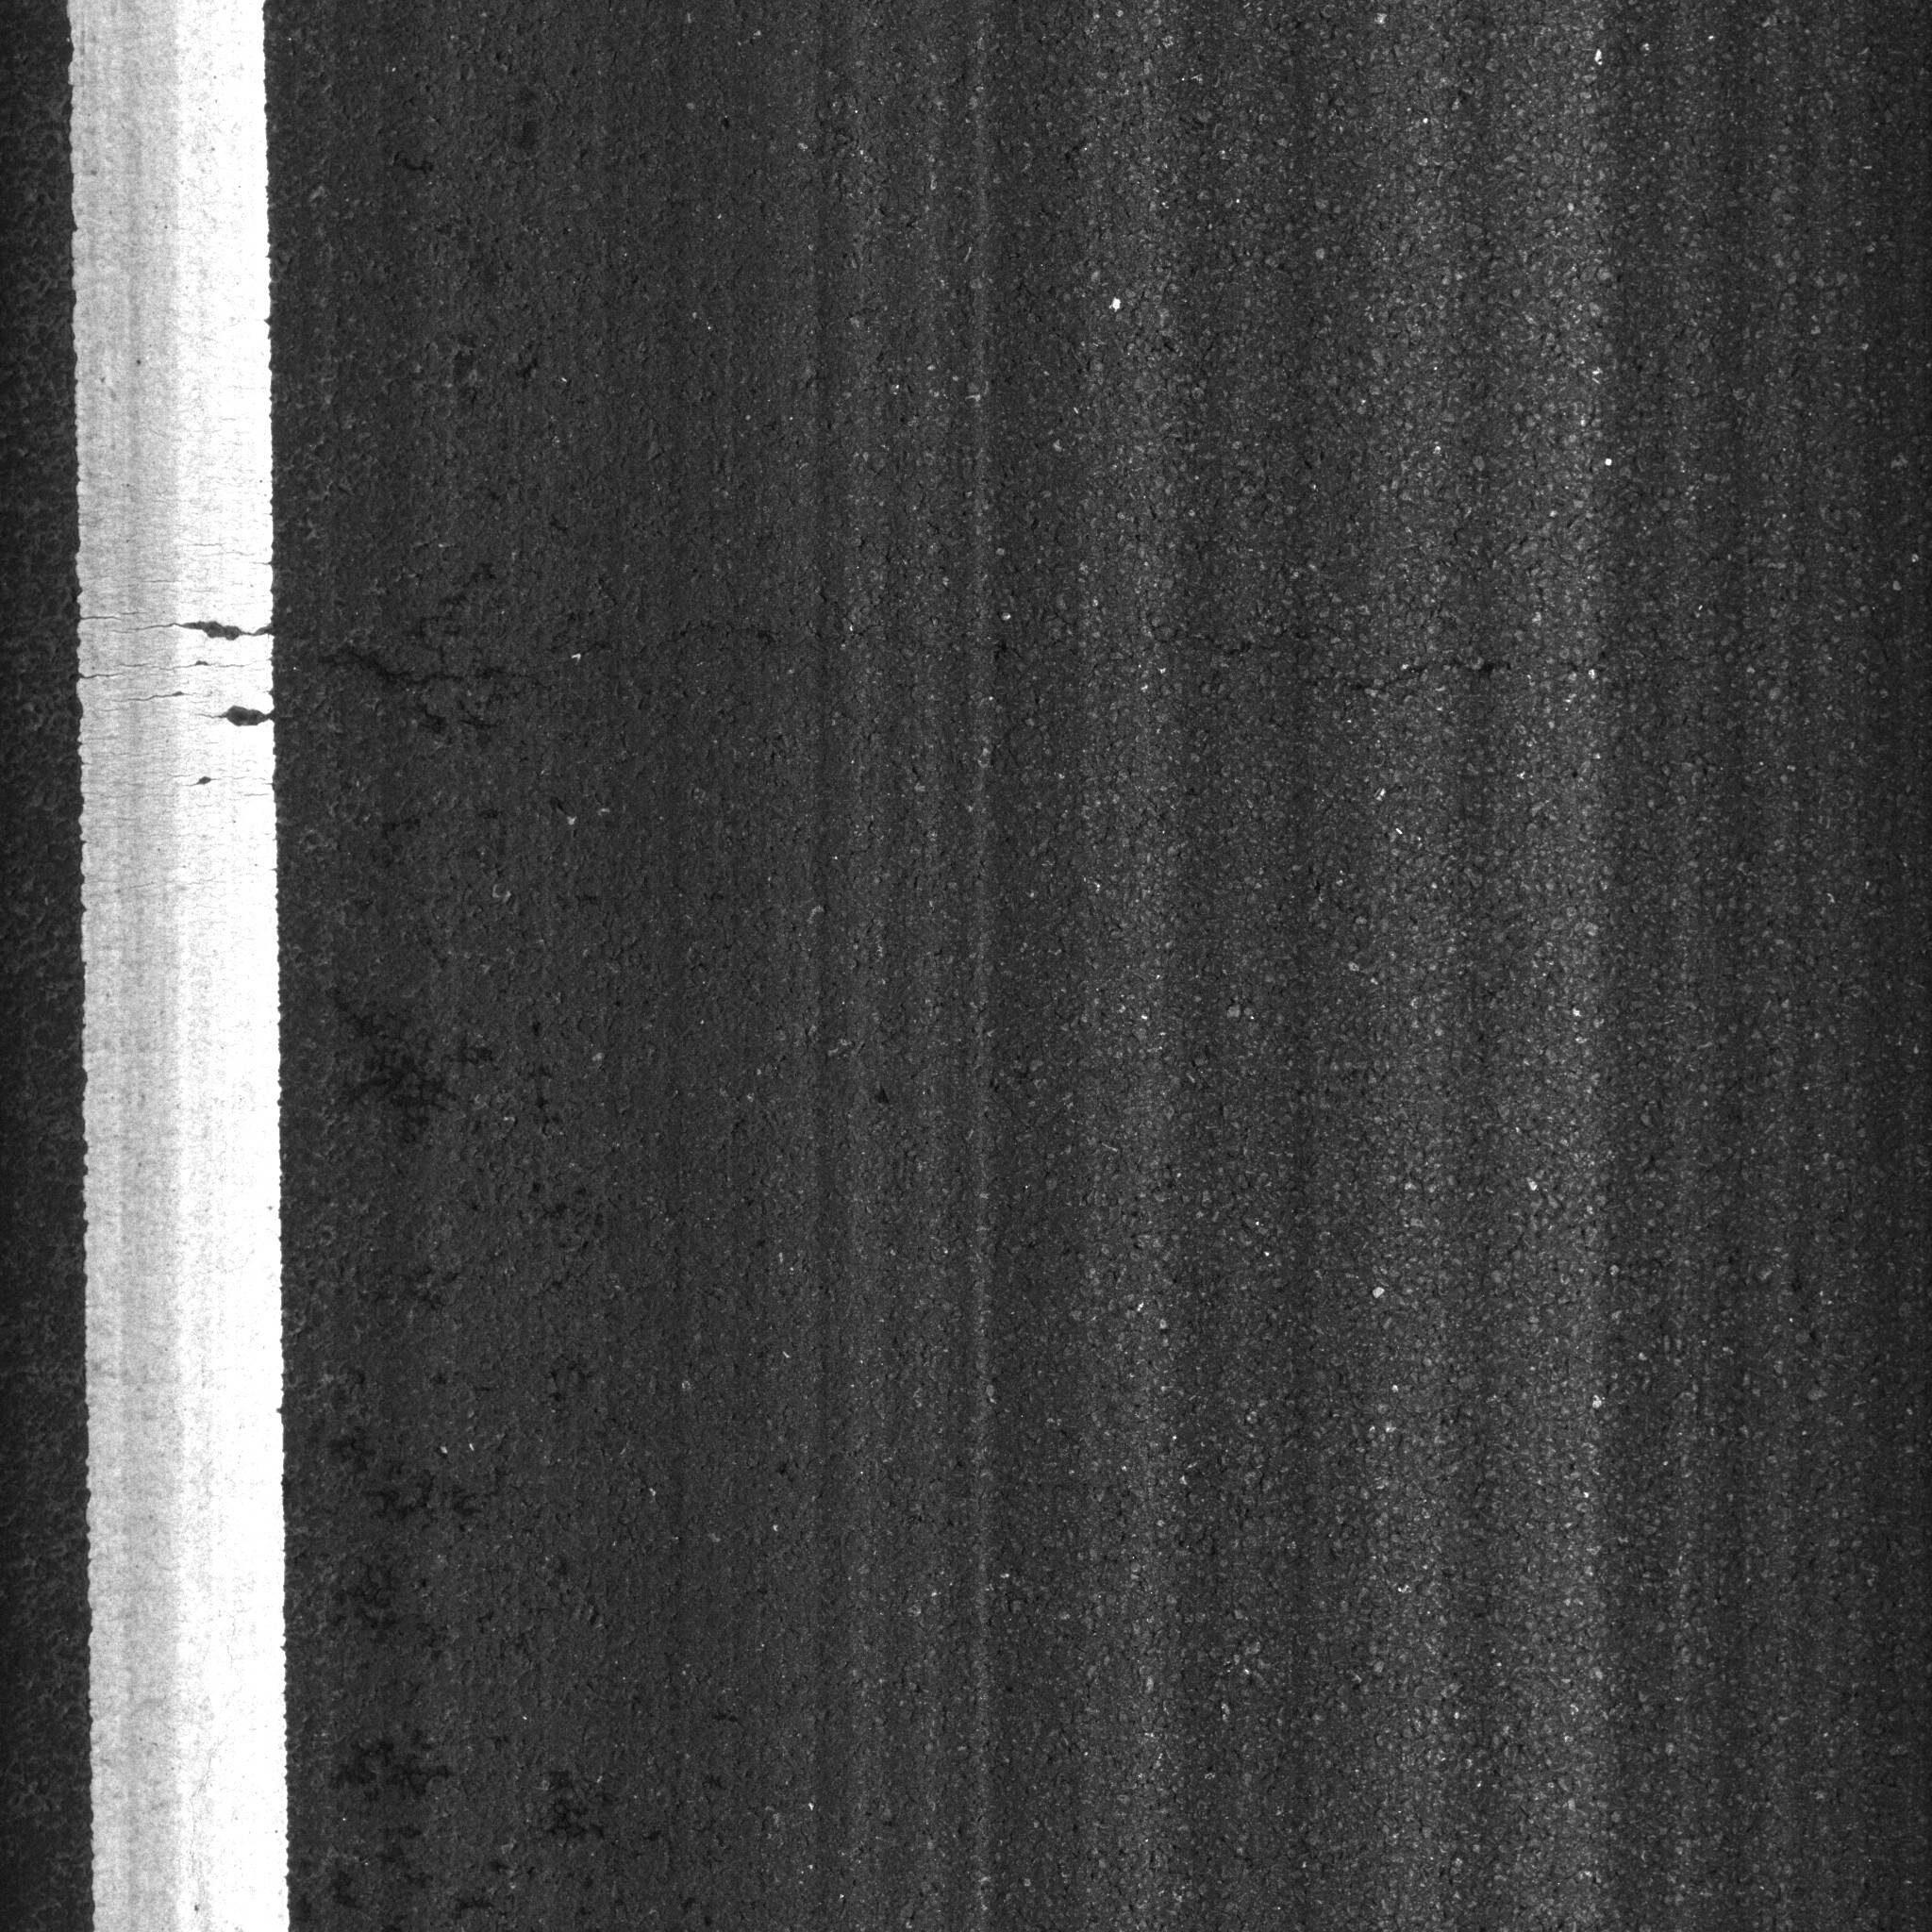transeverse: (297, 596, 1686, 748)
